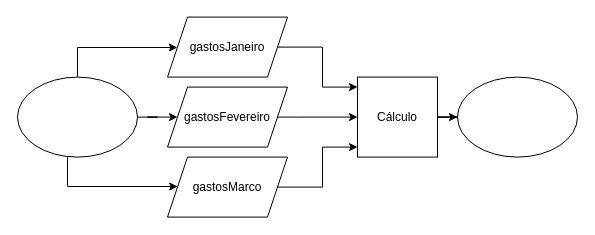
Some shapes in this 595 by 235 pixel diagram are drawn without their labels. The shapes that lost their labels are listed below. From the top down, each one's centre as x and y in pixels, then its label:
At (x=77, y=116): "Inicio".
At (x=517, y=116): "gastosTrimestre".
